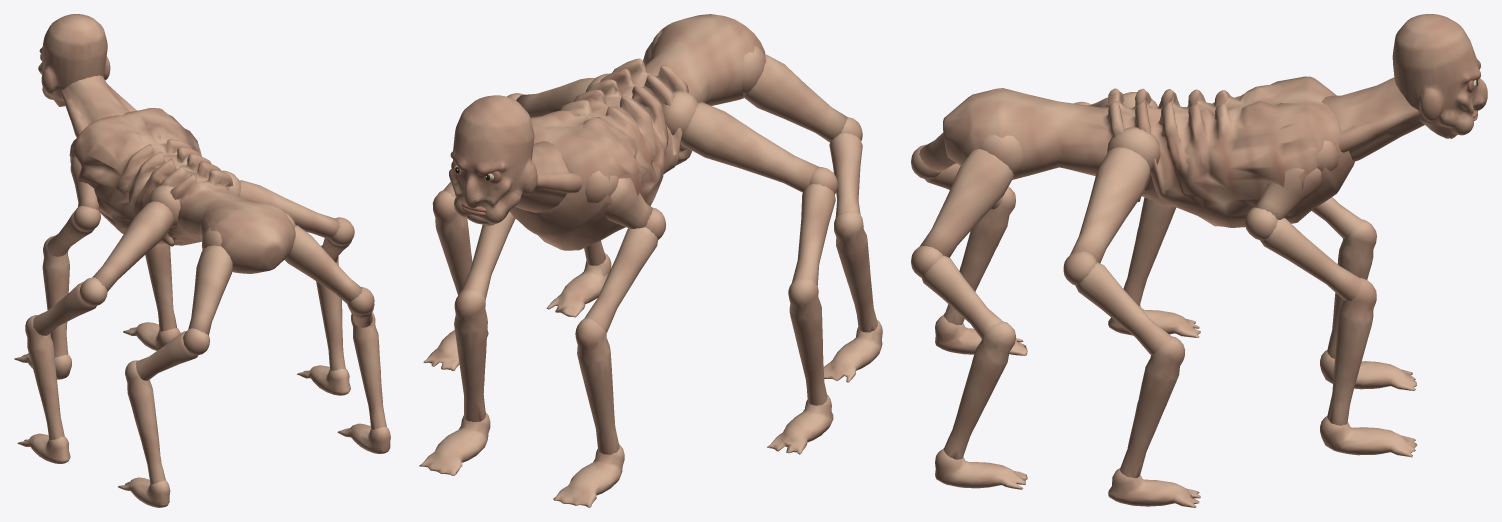
3 views of the same model, side by side, from view 1: azimuth 30°, elevation 25°; view 2: azimuth 150°, elevation 25°; view 3: azimuth 270°, elevation 25° (orthographic). The views are drawn at different scales.
Size of the model in its own units: 1.55 by 1.55 by 2.01.
Materials: 1 (1 with a texture image).
